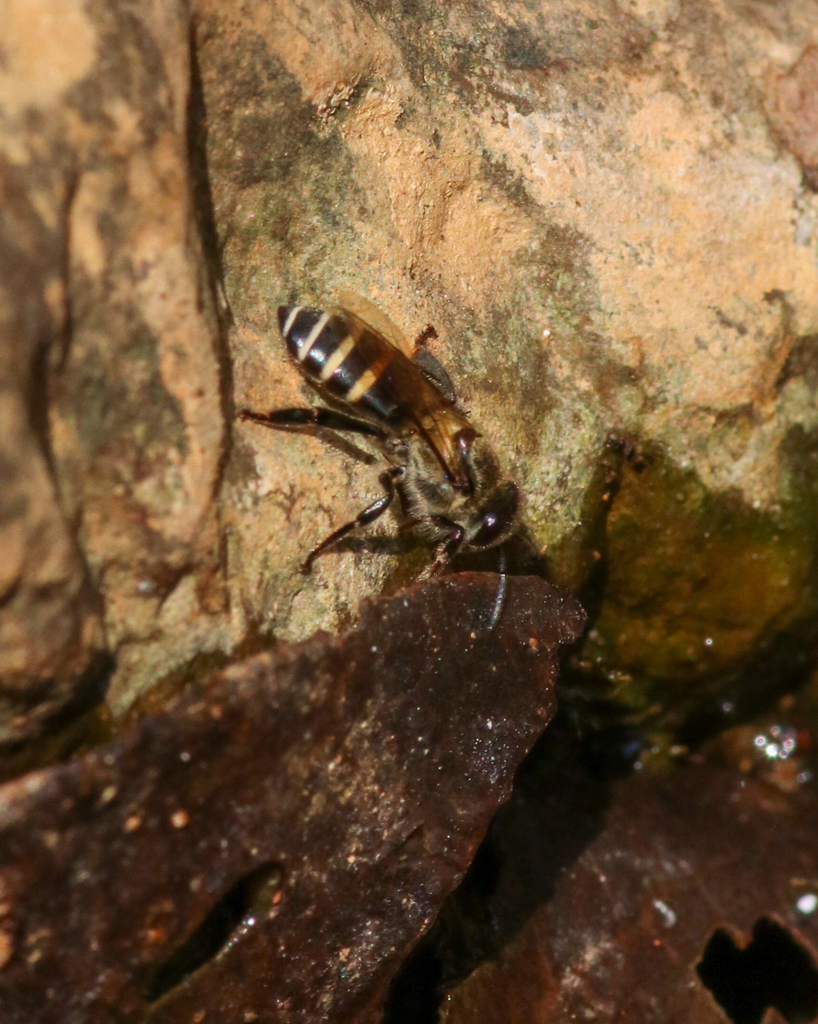not_bumblebee: (238, 300, 530, 629)
